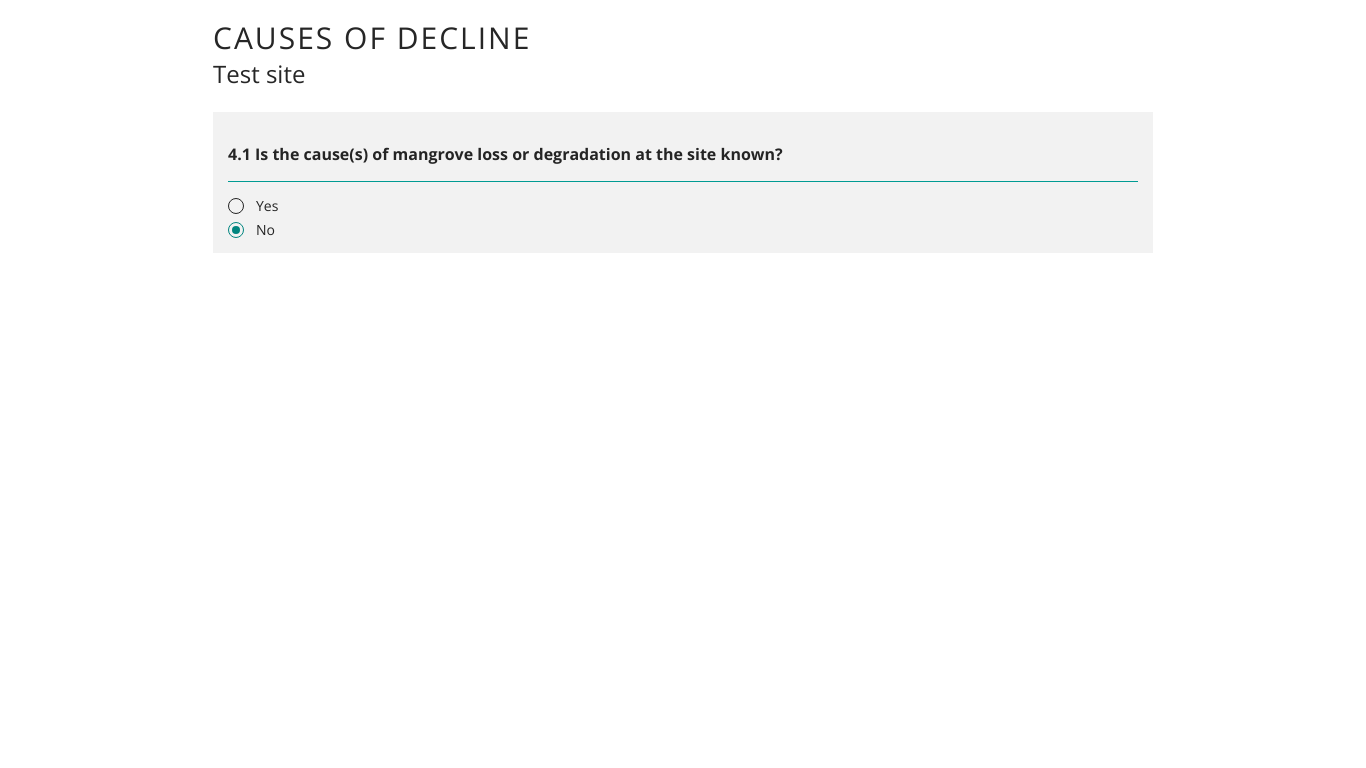
Test: section forms › CausesOfDeclineForm › adds and removes a sub cause answer when its checkbox changes
Later steps or results of the test are not shown.
What coordinates should you click on to do the following:
click the radio button labelled "Yes"
I would click on:
 (253, 206)
Its box is top-left (228, 196), bottom-right (278, 215).
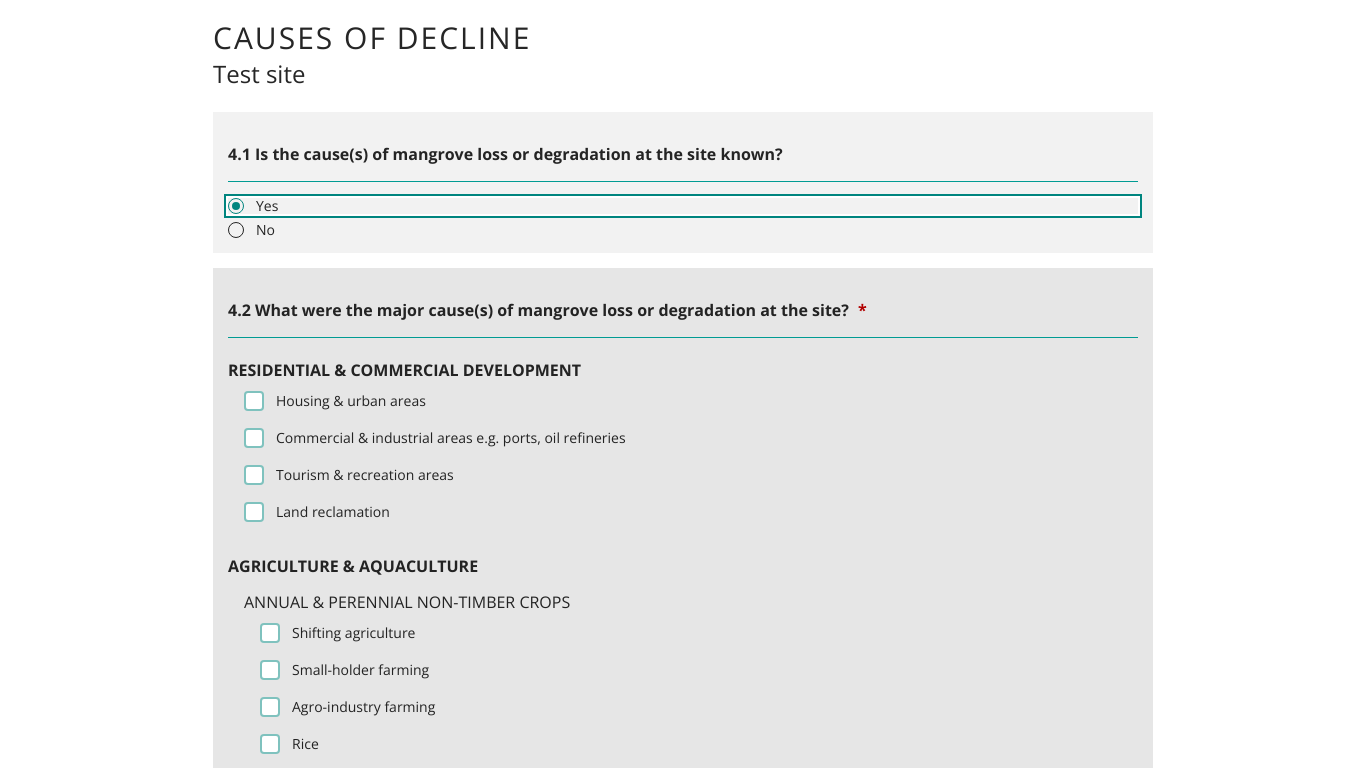
What coordinates should you click on to do the following:
click the checkbox named "Rice" next to "Rice"
I would click on:
 (270, 744)
Its box is top-left (260, 734), bottom-right (280, 754).
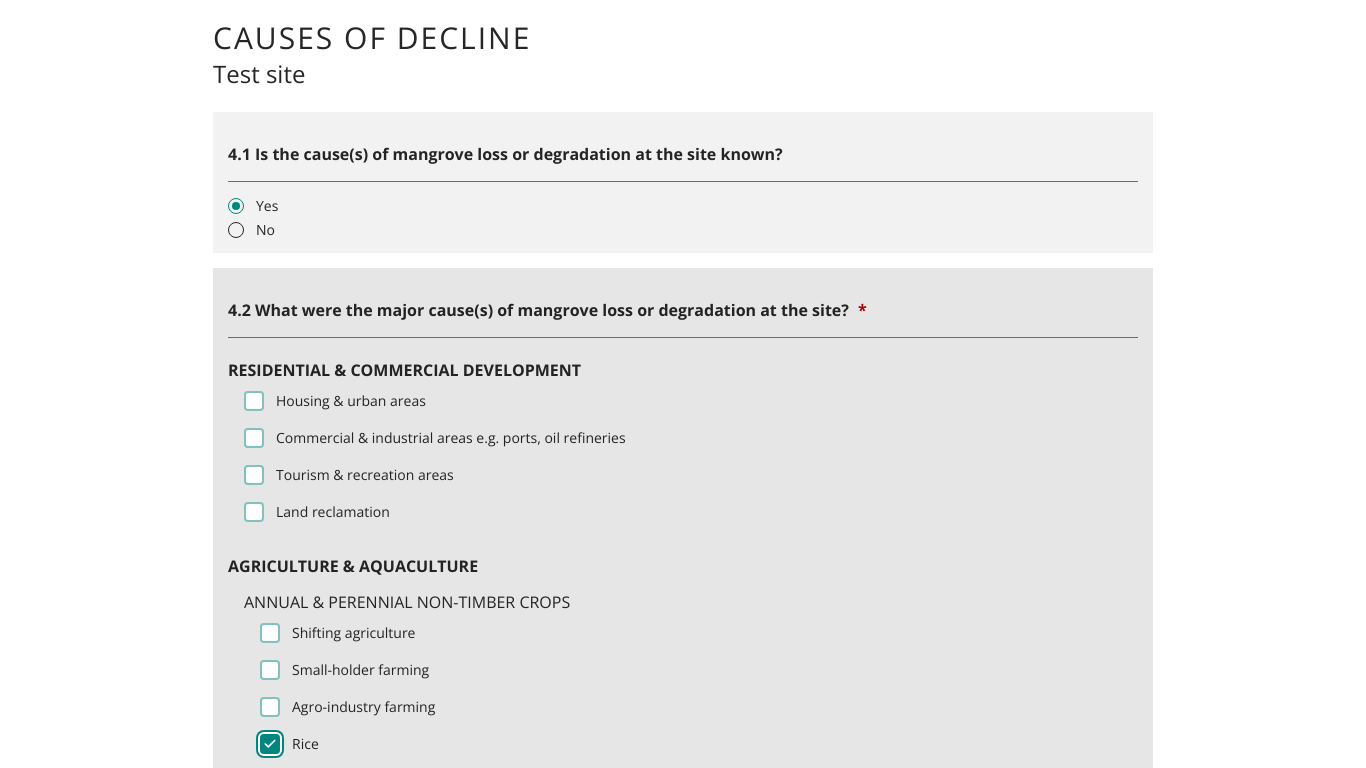
Now the 8th checkbox named "Rice" is checked, box top-left (260, 734), bottom-right (280, 754)
